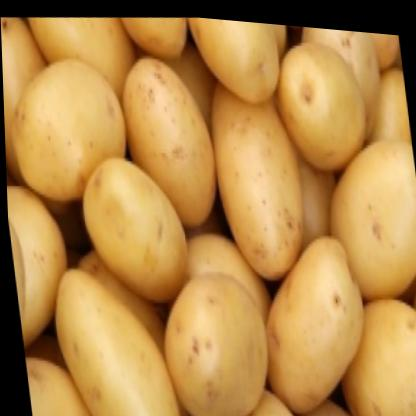--: (195, 36, 314, 274), (37, 239, 180, 416), (243, 214, 374, 402), (1, 50, 142, 207), (142, 259, 275, 414), (112, 43, 218, 232), (73, 146, 192, 308), (265, 19, 381, 164), (318, 128, 416, 286)
